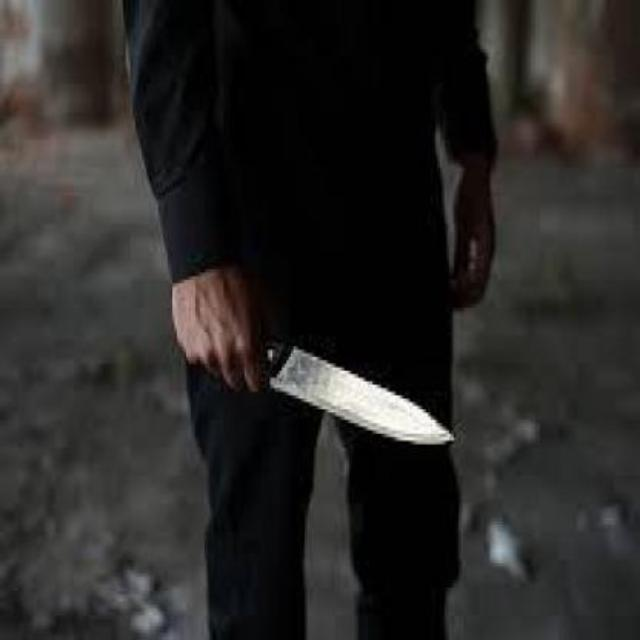Knife: (258, 339, 452, 446)
